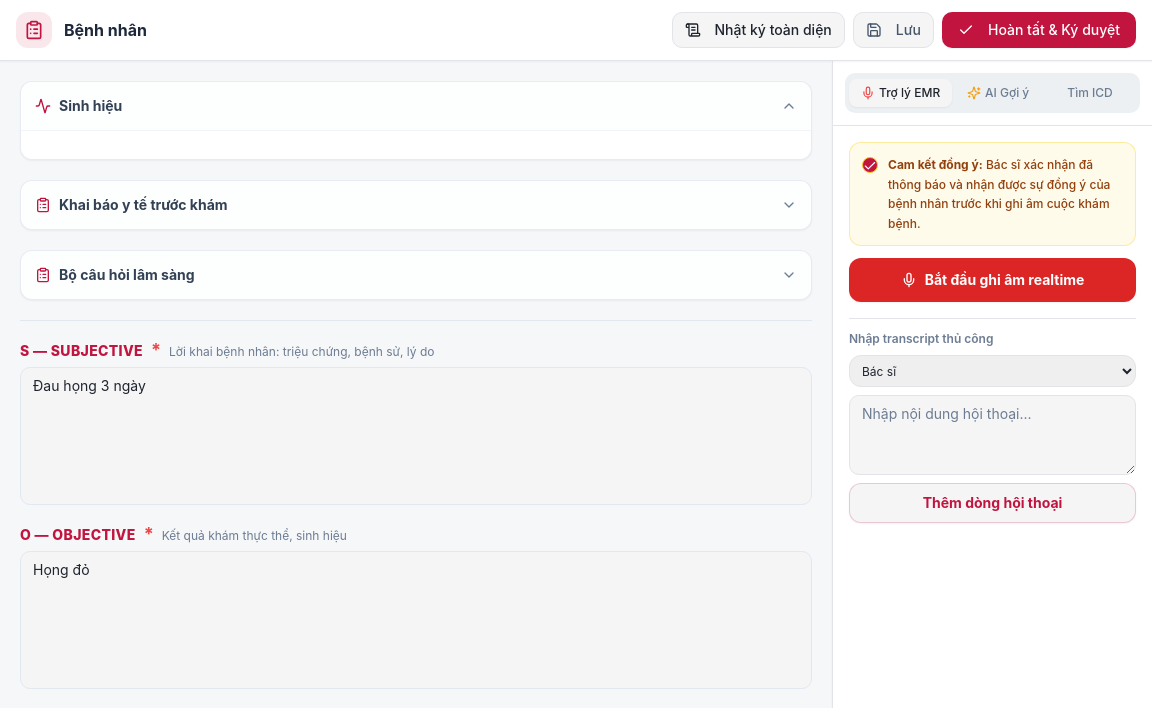
Test: SOAP comprehensive activity log (TC-DLS-022) › should show AI draft then doctor SOAP in Nhật ký toàn diện
Click the button "Nhật ký toàn diện". click: (758, 30)
box: [672,12,845,48]
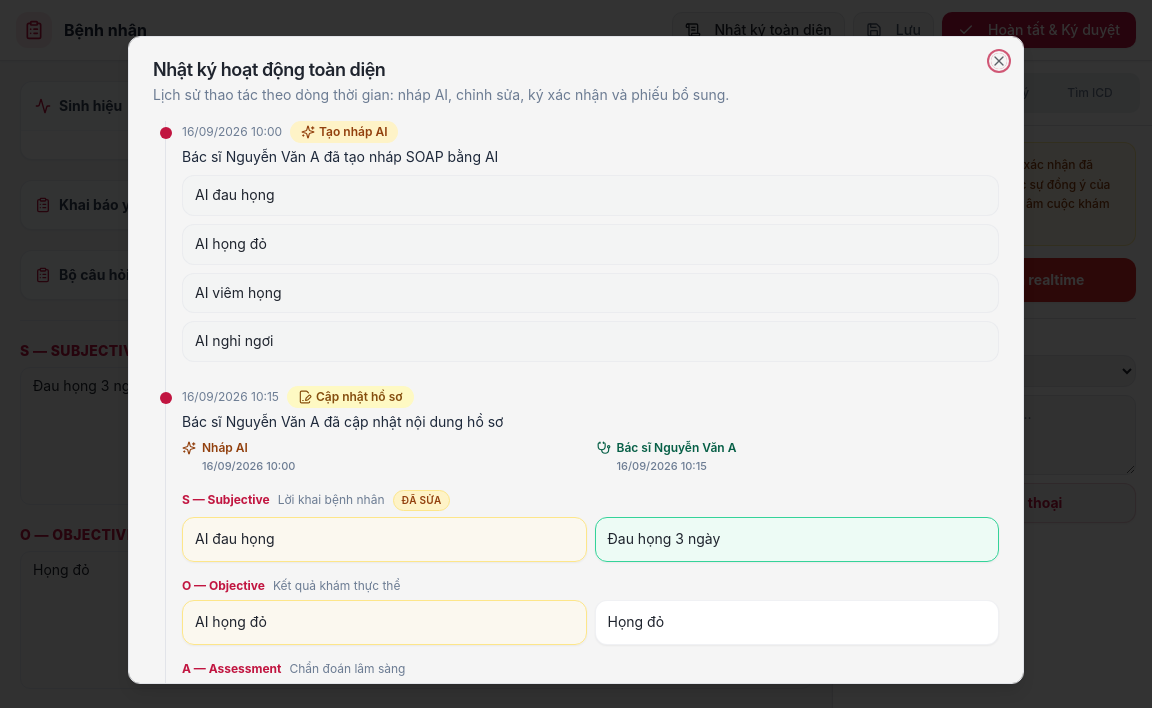
Check: the text box "đau họng 3 ngày" is shown, box [20,367,812,505]
Check: the text "AI đau họng" below "Tạo nháp AI" is shown, box [195,186,274,203]
Check: the text "Bác sĩ Nguyễn Văn A đã tạo nháp SOAP bằng AI" is shown, box [182,148,498,165]
